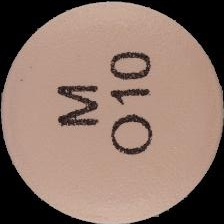0615-7520: (0, 0, 224, 224)
